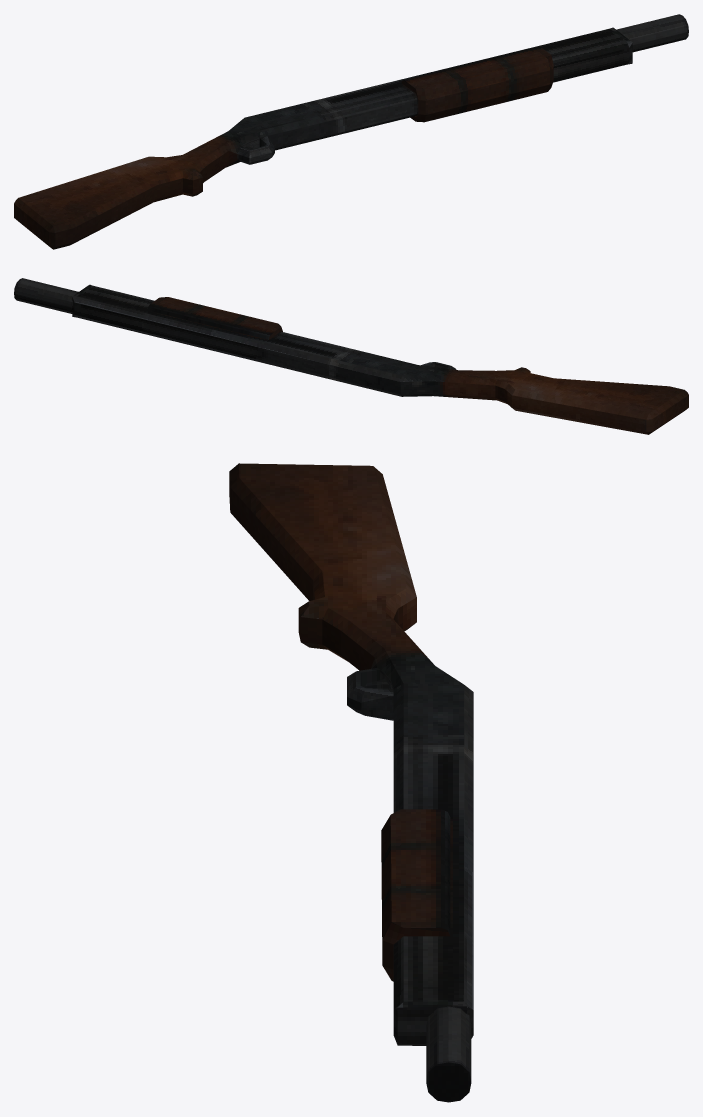
The model's file is shotgun_1.glb.
3 renders of one model, top to bottom at view 1: azimuth 30°, elevation 25°; view 2: azimuth 150°, elevation 25°; view 3: azimuth 270°, elevation 25°, orthographic. The views are drawn at different scales.
Parts seen in each view (by area): view 1: shotgun_1; view 2: shotgun_1; view 3: shotgun_1.
Boxes of the visible parts, x1,y1,x2,y2 form: shotgun_1: [14, 14, 688, 249]; shotgun_1: [14, 278, 688, 434]; shotgun_1: [229, 463, 473, 1102].
Bounding box in the file's own units: 1.44 × 0.0655 × 0.2462.
Materials: 1 (1 with a texture image).
